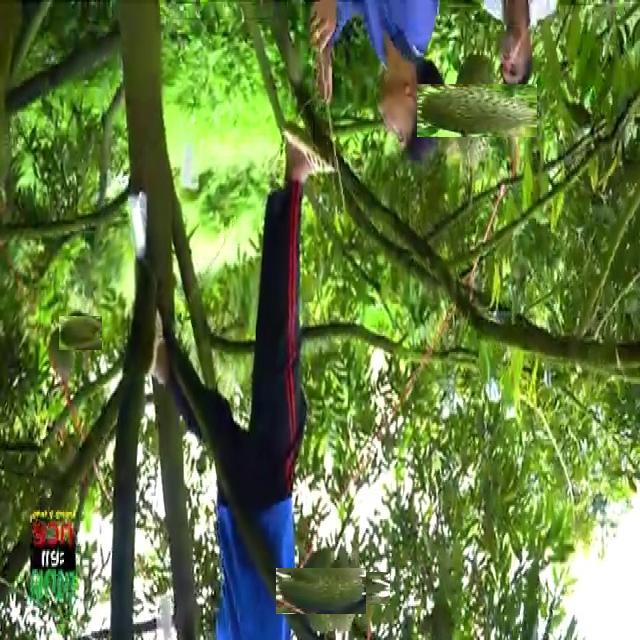durian: (433, 67, 520, 154), (287, 556, 355, 625), (311, 557, 375, 621), (46, 324, 77, 382), (61, 314, 99, 352)
